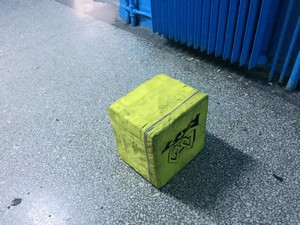cube: (108, 75, 207, 189)
